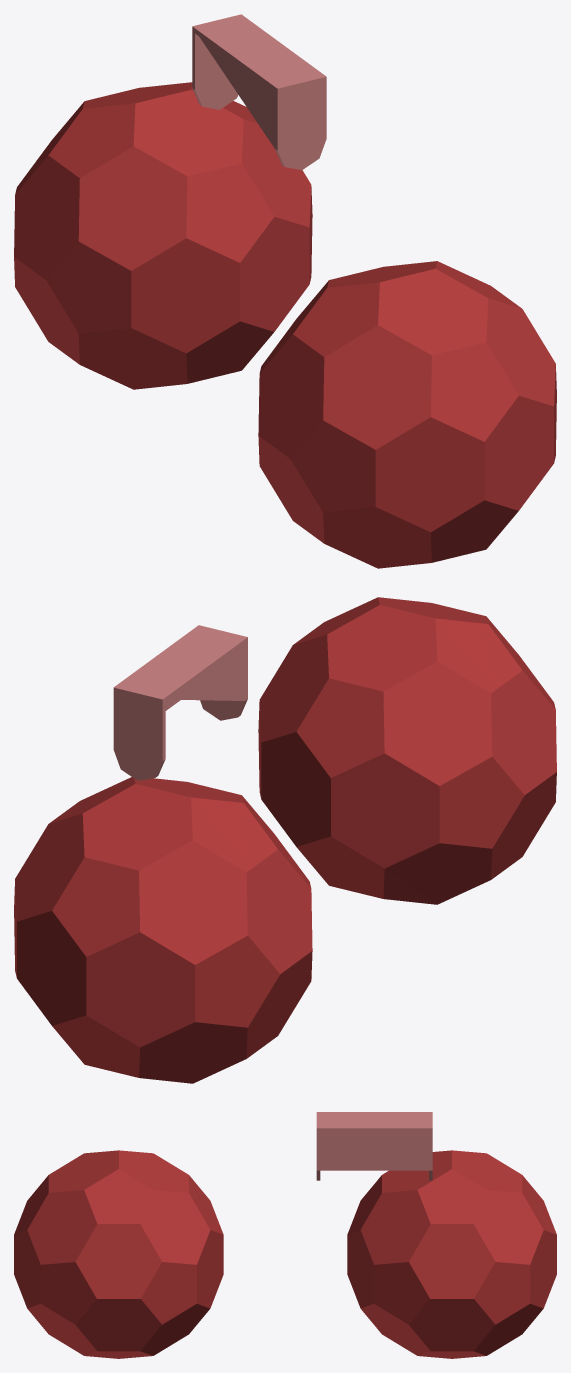
File: _head-cheek.glb
3 renders of one model, top to bottom at view 1: azimuth 30°, elevation 25°; view 2: azimuth 150°, elevation 25°; view 3: azimuth 270°, elevation 25°, orthographic. The views are drawn at different scales.
Bounding box in the file's own units: 0.0541 × 0.0691 × 0.1401.
